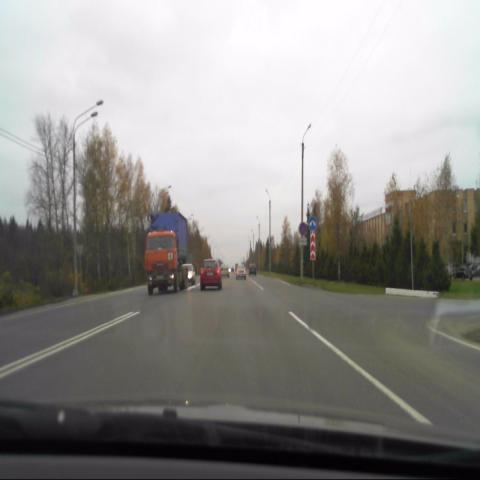3_27: (298, 222, 307, 238)
4_2_3: (307, 215, 317, 232)
